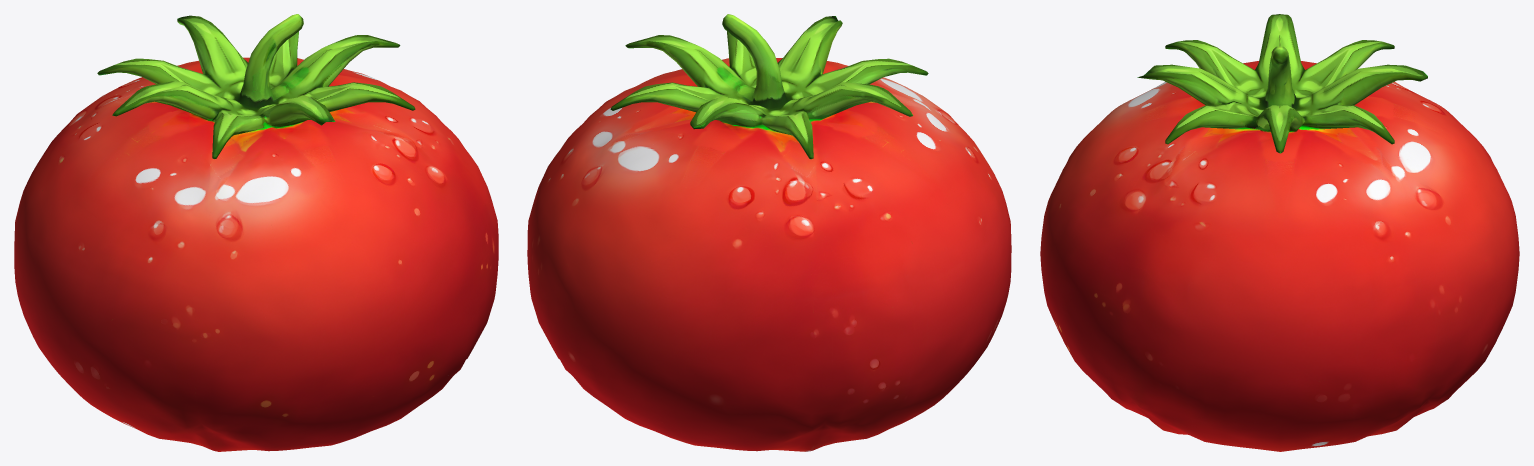
File: tomato.fbx
The picture shows the model from 3 angles, left to right: view 1: azimuth 30°, elevation 25°; view 2: azimuth 150°, elevation 25°; view 3: azimuth 270°, elevation 25°; orthographic projection.
Parts seen in each view (by area): view 1: Mesh_0.015; view 2: Mesh_0.015; view 3: Mesh_0.015.
Part boxes in pixels (bbox=[...]): Mesh_0.015: bbox=[14, 14, 498, 451]; Mesh_0.015: bbox=[527, 14, 1011, 451]; Mesh_0.015: bbox=[1040, 14, 1519, 451].
Bounding box in the file's own units: 38.12 × 34.52 × 38.12.
1 material, 1 textured.
